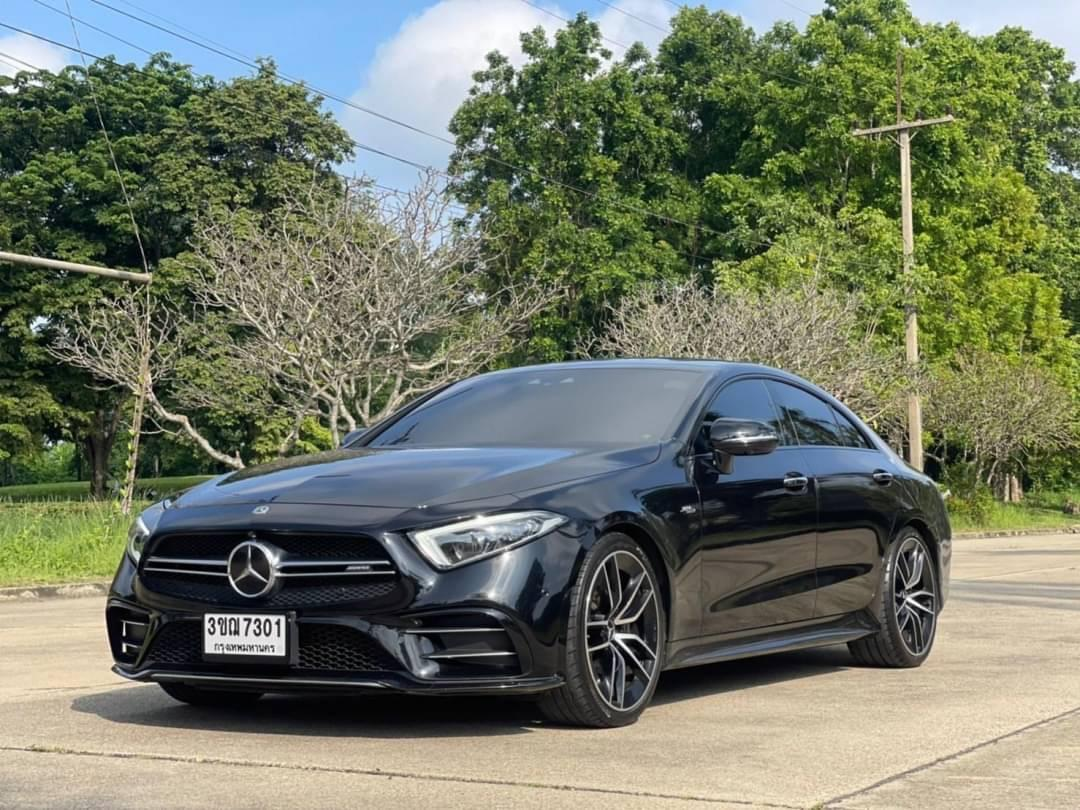license-plate: (196, 601, 297, 667)
